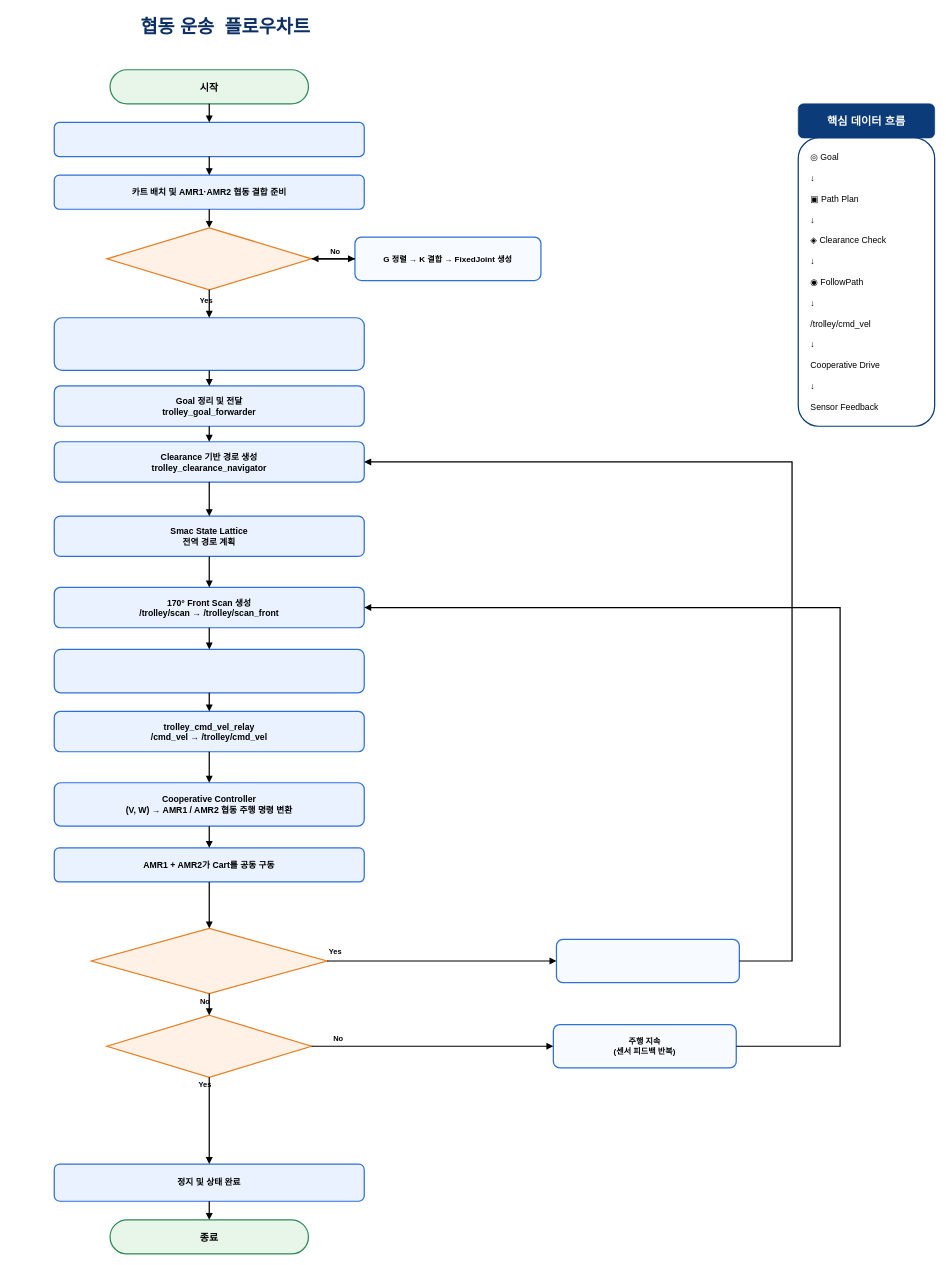
The diagram is 946 pixels wide and 1265 high, and some of its shapes have lost their labels. Each missing label, with the centre of its shape:
"Isaac Sim / ROS2 / Nav2 Trolley 실행" belongs at point 209,139.
"Nav2 FollowPath / MPPI Controller 속도 명령 생성 (/cmd_vel)" belongs at point 209,671.
"목표 도착?" belongs at point 209,1046.
"목표 입력 (RViz Goal 또는 중앙 관리 노드) → /trolley/center_goal" belongs at point 209,344.
"속도 조정 / 재계획 / 경로 보정" belongs at point 648,960.
"장애물·벽 근접·경로 이탈 발생?" belongs at point 209,961.
"카트 결합 완료?" belongs at point 209,258.
